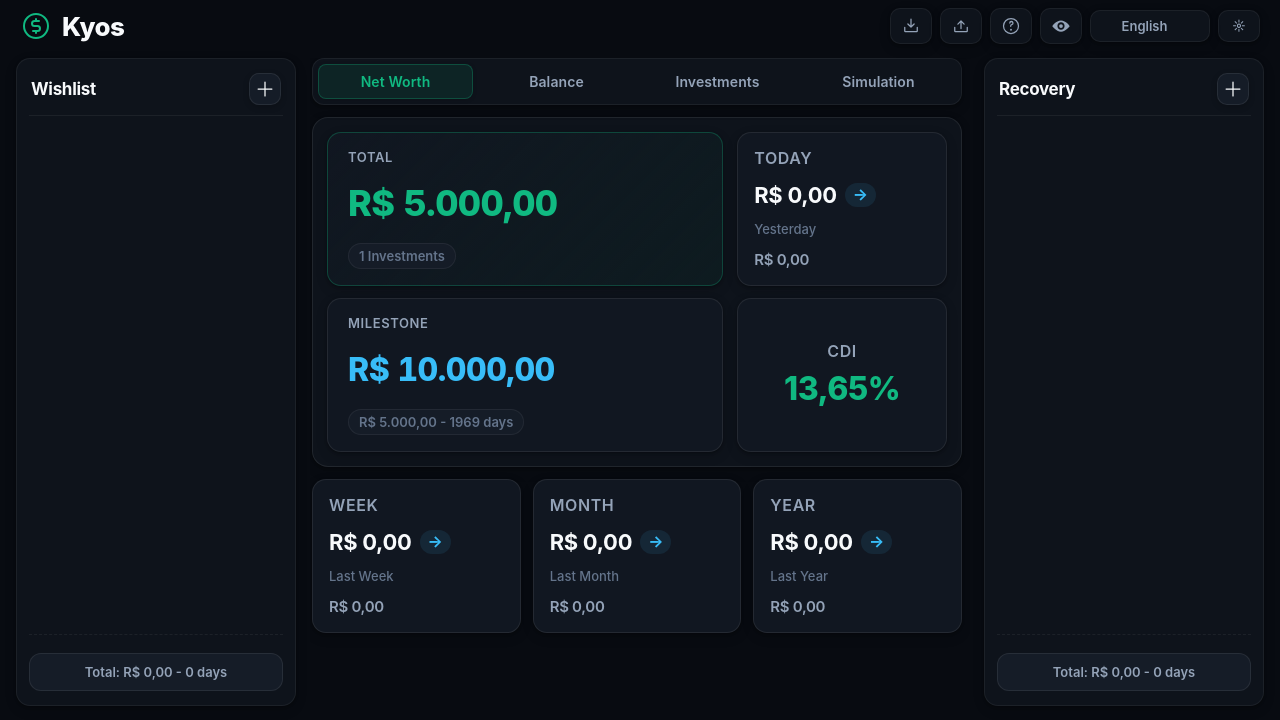
it: canceling asset edit preserves original asset data
This screenshot has width=1280, height=720.
Step 1. Click the button "Investments" → coordinates (718, 82), box [640,64,795,99]
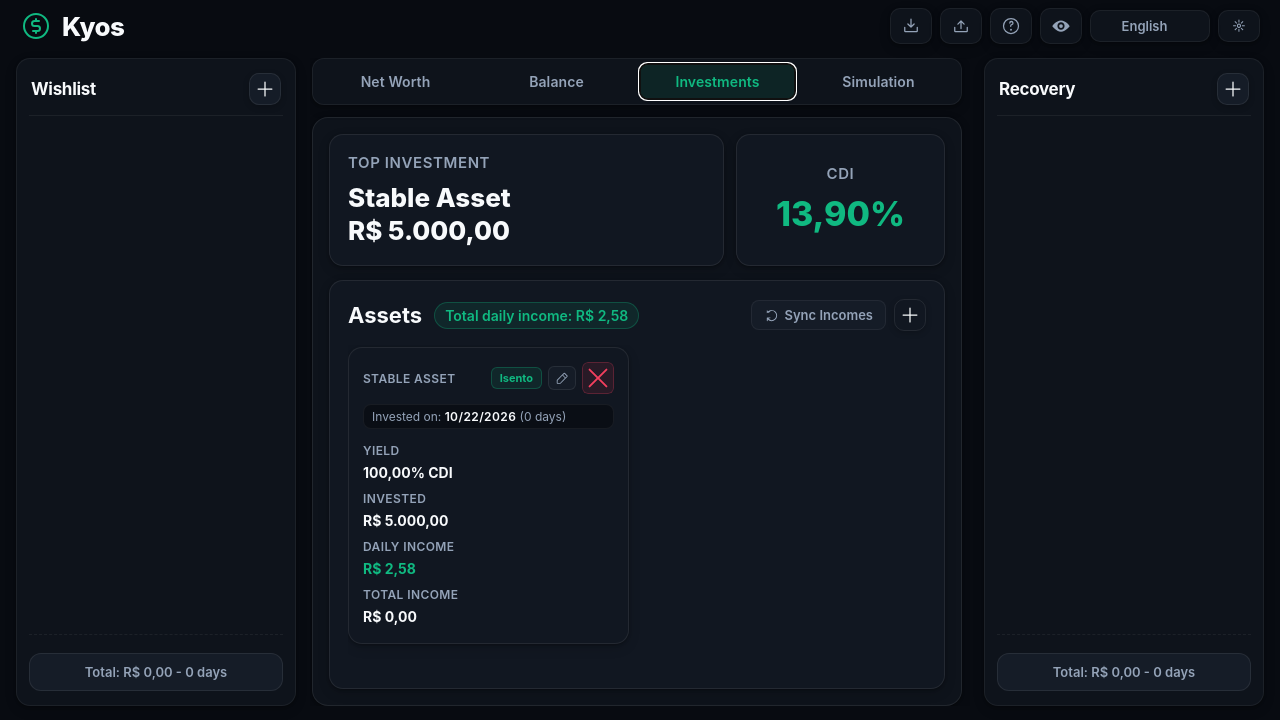
Expected: the text "Stable Asset" is shown, [363,370,456,386]
Note: Click edit
Step 2. Click the button named "edit stable asset" → coordinates (562, 378), box [548,366,576,390]
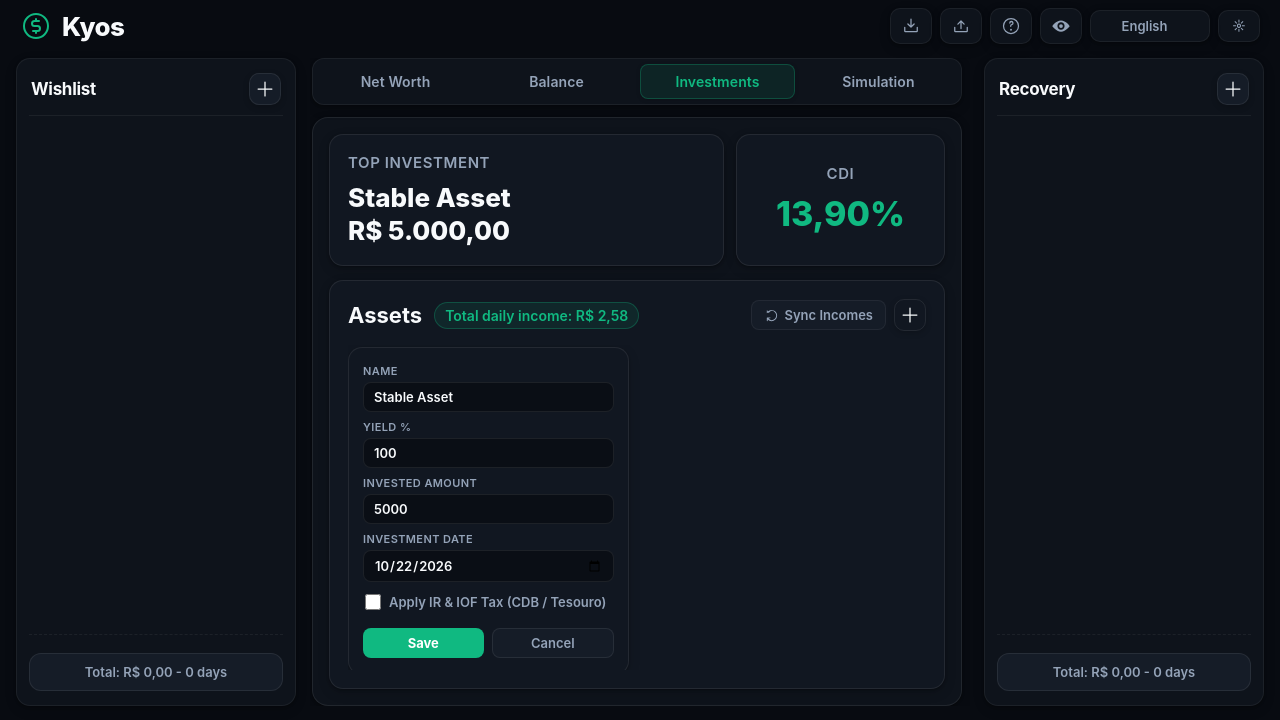
Note: Type new name
Step 3. Replace the text in the field showing "Stable Asset" with "Unsaved Changed Name" → coordinates (488, 397), box [363,382,614,412]
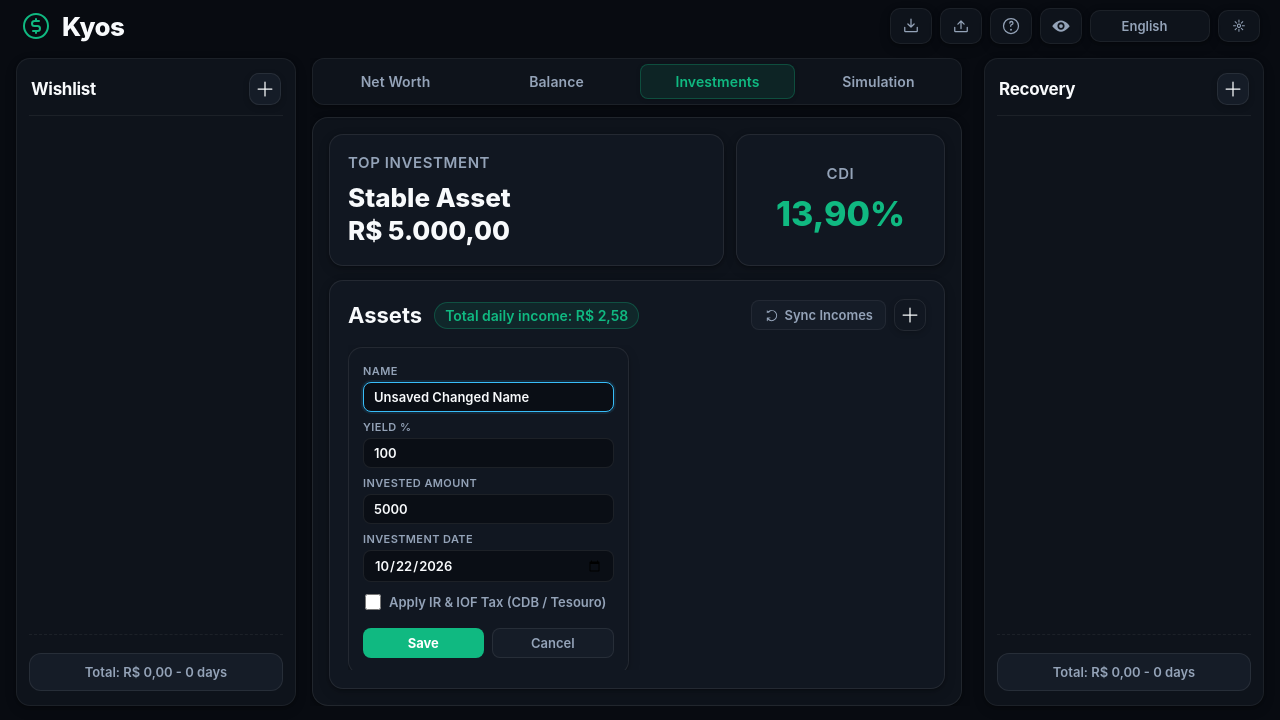
Note: Click cancel
Step 4. Click the button "Cancel" → coordinates (553, 643), box [492,628,614,658]
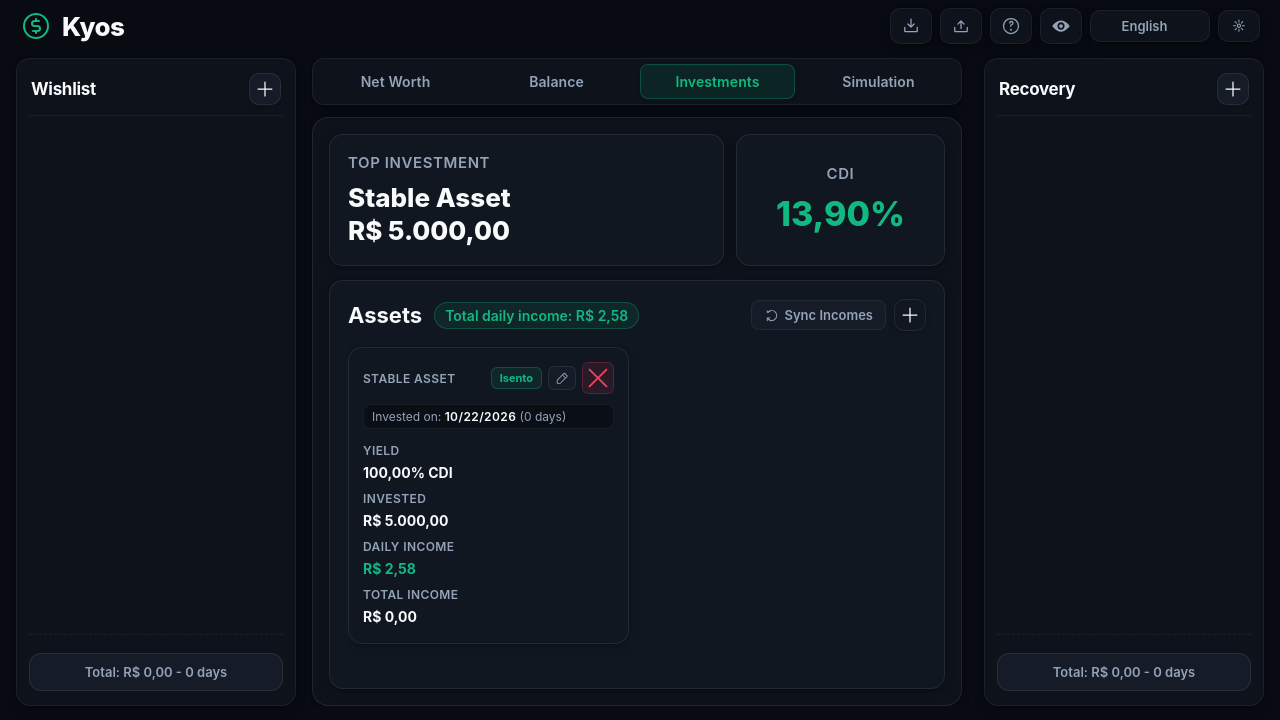
Expected: the text "Stable Asset" is shown, [363,370,456,386]
Expected: the field "Unsaved Changed Name" is gone
